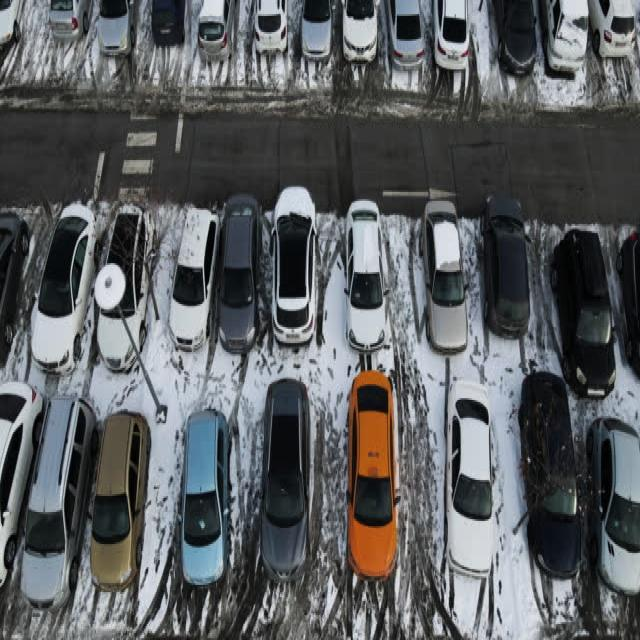car: (20, 395, 97, 612), (520, 374, 582, 582), (31, 203, 98, 376), (346, 371, 399, 583), (550, 228, 614, 400), (441, 379, 496, 579), (584, 409, 640, 596), (91, 412, 148, 590), (264, 378, 310, 581), (180, 408, 230, 588), (0, 385, 43, 587), (100, 202, 150, 370), (268, 184, 318, 345), (214, 192, 262, 354), (479, 193, 531, 342), (421, 201, 468, 356), (167, 205, 216, 353), (341, 198, 387, 354), (541, 0, 587, 75), (588, 0, 636, 63), (496, 2, 536, 77), (429, 0, 470, 73), (387, 1, 426, 70), (96, 1, 135, 61), (341, 2, 377, 64), (195, 1, 232, 59), (300, 2, 333, 62), (253, 0, 288, 55), (148, 0, 186, 46), (50, 2, 90, 44), (0, 0, 23, 46)
